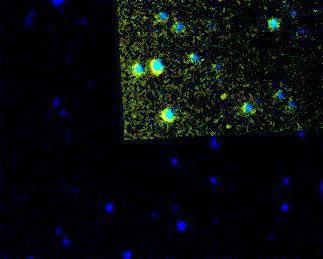star: (208, 83, 238, 113)
